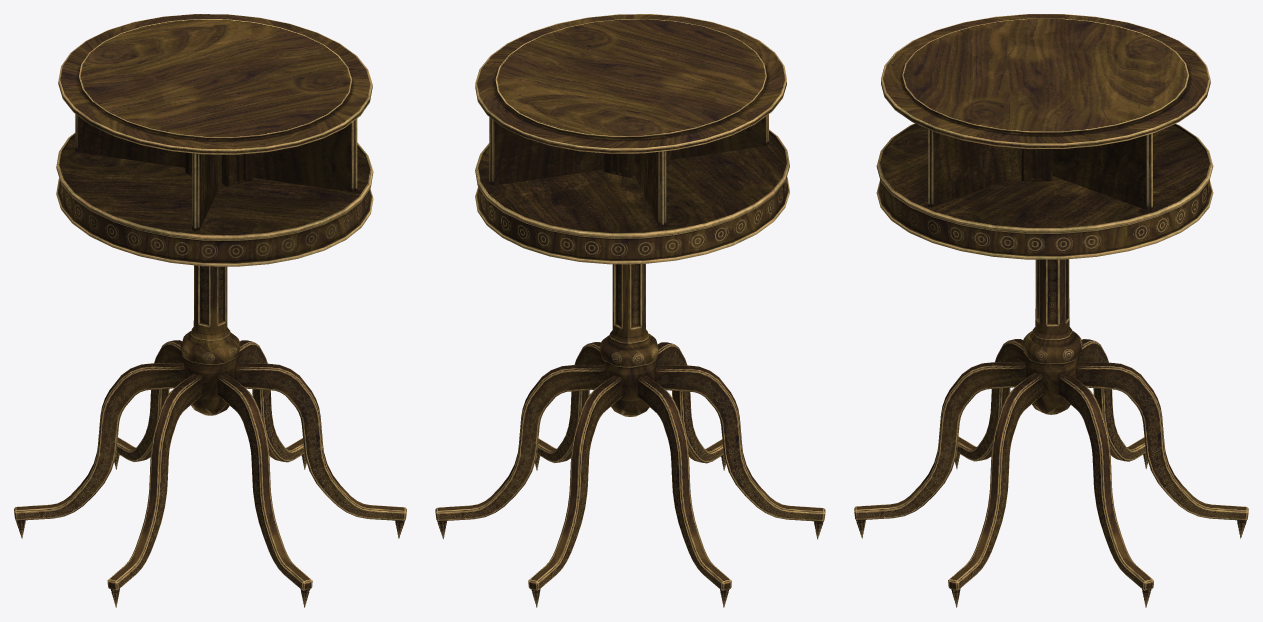
Rendered from SM_FoodStandGround_1S.fbx.
3 views of the same model, side by side, from view 1: azimuth 30°, elevation 25°; view 2: azimuth 150°, elevation 25°; view 3: azimuth 270°, elevation 25° (orthographic).
Visible parts, largest first — view 1: SM_FoodStandGround_1S_LOD0; view 2: SM_FoodStandGround_1S_LOD0; view 3: SM_FoodStandGround_1S_LOD0.
Part boxes in pixels (x1=…): SM_FoodStandGround_1S_LOD0: x1=14, y1=14, x2=406, y2=607; SM_FoodStandGround_1S_LOD0: x1=435, y1=14, x2=825, y2=607; SM_FoodStandGround_1S_LOD0: x1=854, y1=14, x2=1248, y2=607.
Bounding box in the file's own units: 115 × 131 × 170.
Materials: 1 (1 with a texture image).
